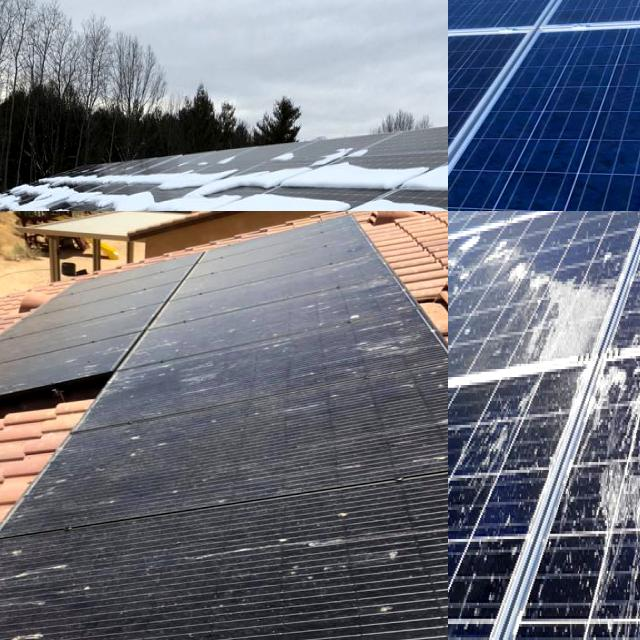bird: (509, 252, 594, 351), (248, 514, 336, 596), (0, 537, 107, 596), (364, 548, 440, 626), (352, 319, 442, 366), (603, 468, 640, 570), (460, 398, 518, 462), (448, 221, 493, 296), (120, 414, 176, 466), (0, 612, 98, 640), (590, 378, 634, 422), (424, 401, 448, 466)
crack: (448, 6, 640, 211)
panel: (238, 134, 320, 196), (330, 163, 436, 206), (52, 169, 157, 211), (174, 157, 244, 211), (8, 170, 64, 211), (415, 157, 448, 211), (332, 136, 376, 174), (231, 192, 306, 211)
